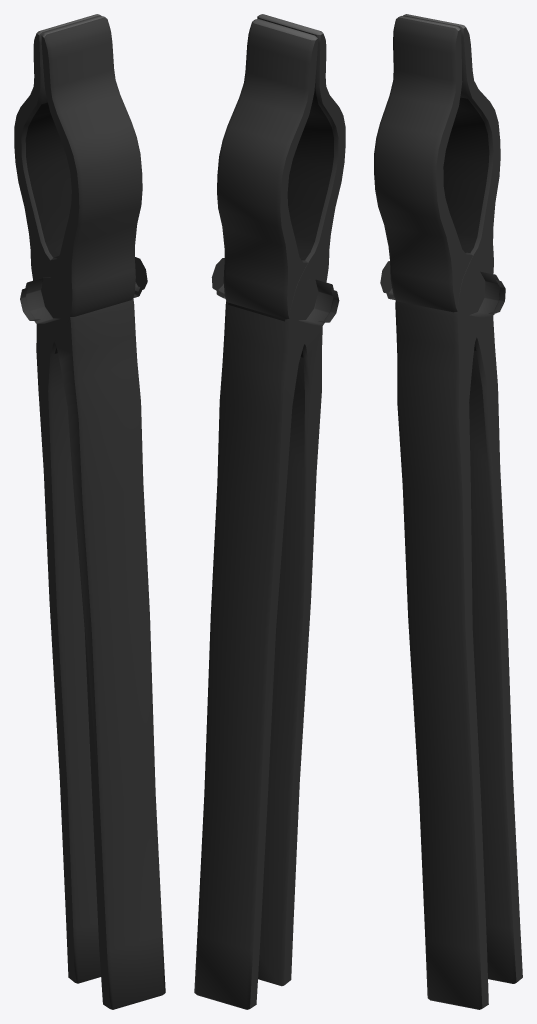
File: UD_SAF_Flat_Tongs.fbx
3 renders of one model, left to right at view 1: azimuth 30°, elevation 25°; view 2: azimuth 150°, elevation 25°; view 3: azimuth 330°, elevation 25°, orthographic.
Parts seen in each view (by area): view 1: Flat_Jaw_Tongs; view 2: Flat_Jaw_Tongs; view 3: Flat_Jaw_Tongs.
Boxes of the visible parts, box(x1,y1,x2,y2) form: Flat_Jaw_Tongs: box(14, 14, 165, 1009); Flat_Jaw_Tongs: box(194, 14, 345, 1009); Flat_Jaw_Tongs: box(374, 14, 522, 1009).
Size of the model in its own units: 5.98 by 47.78 by 5.92.
